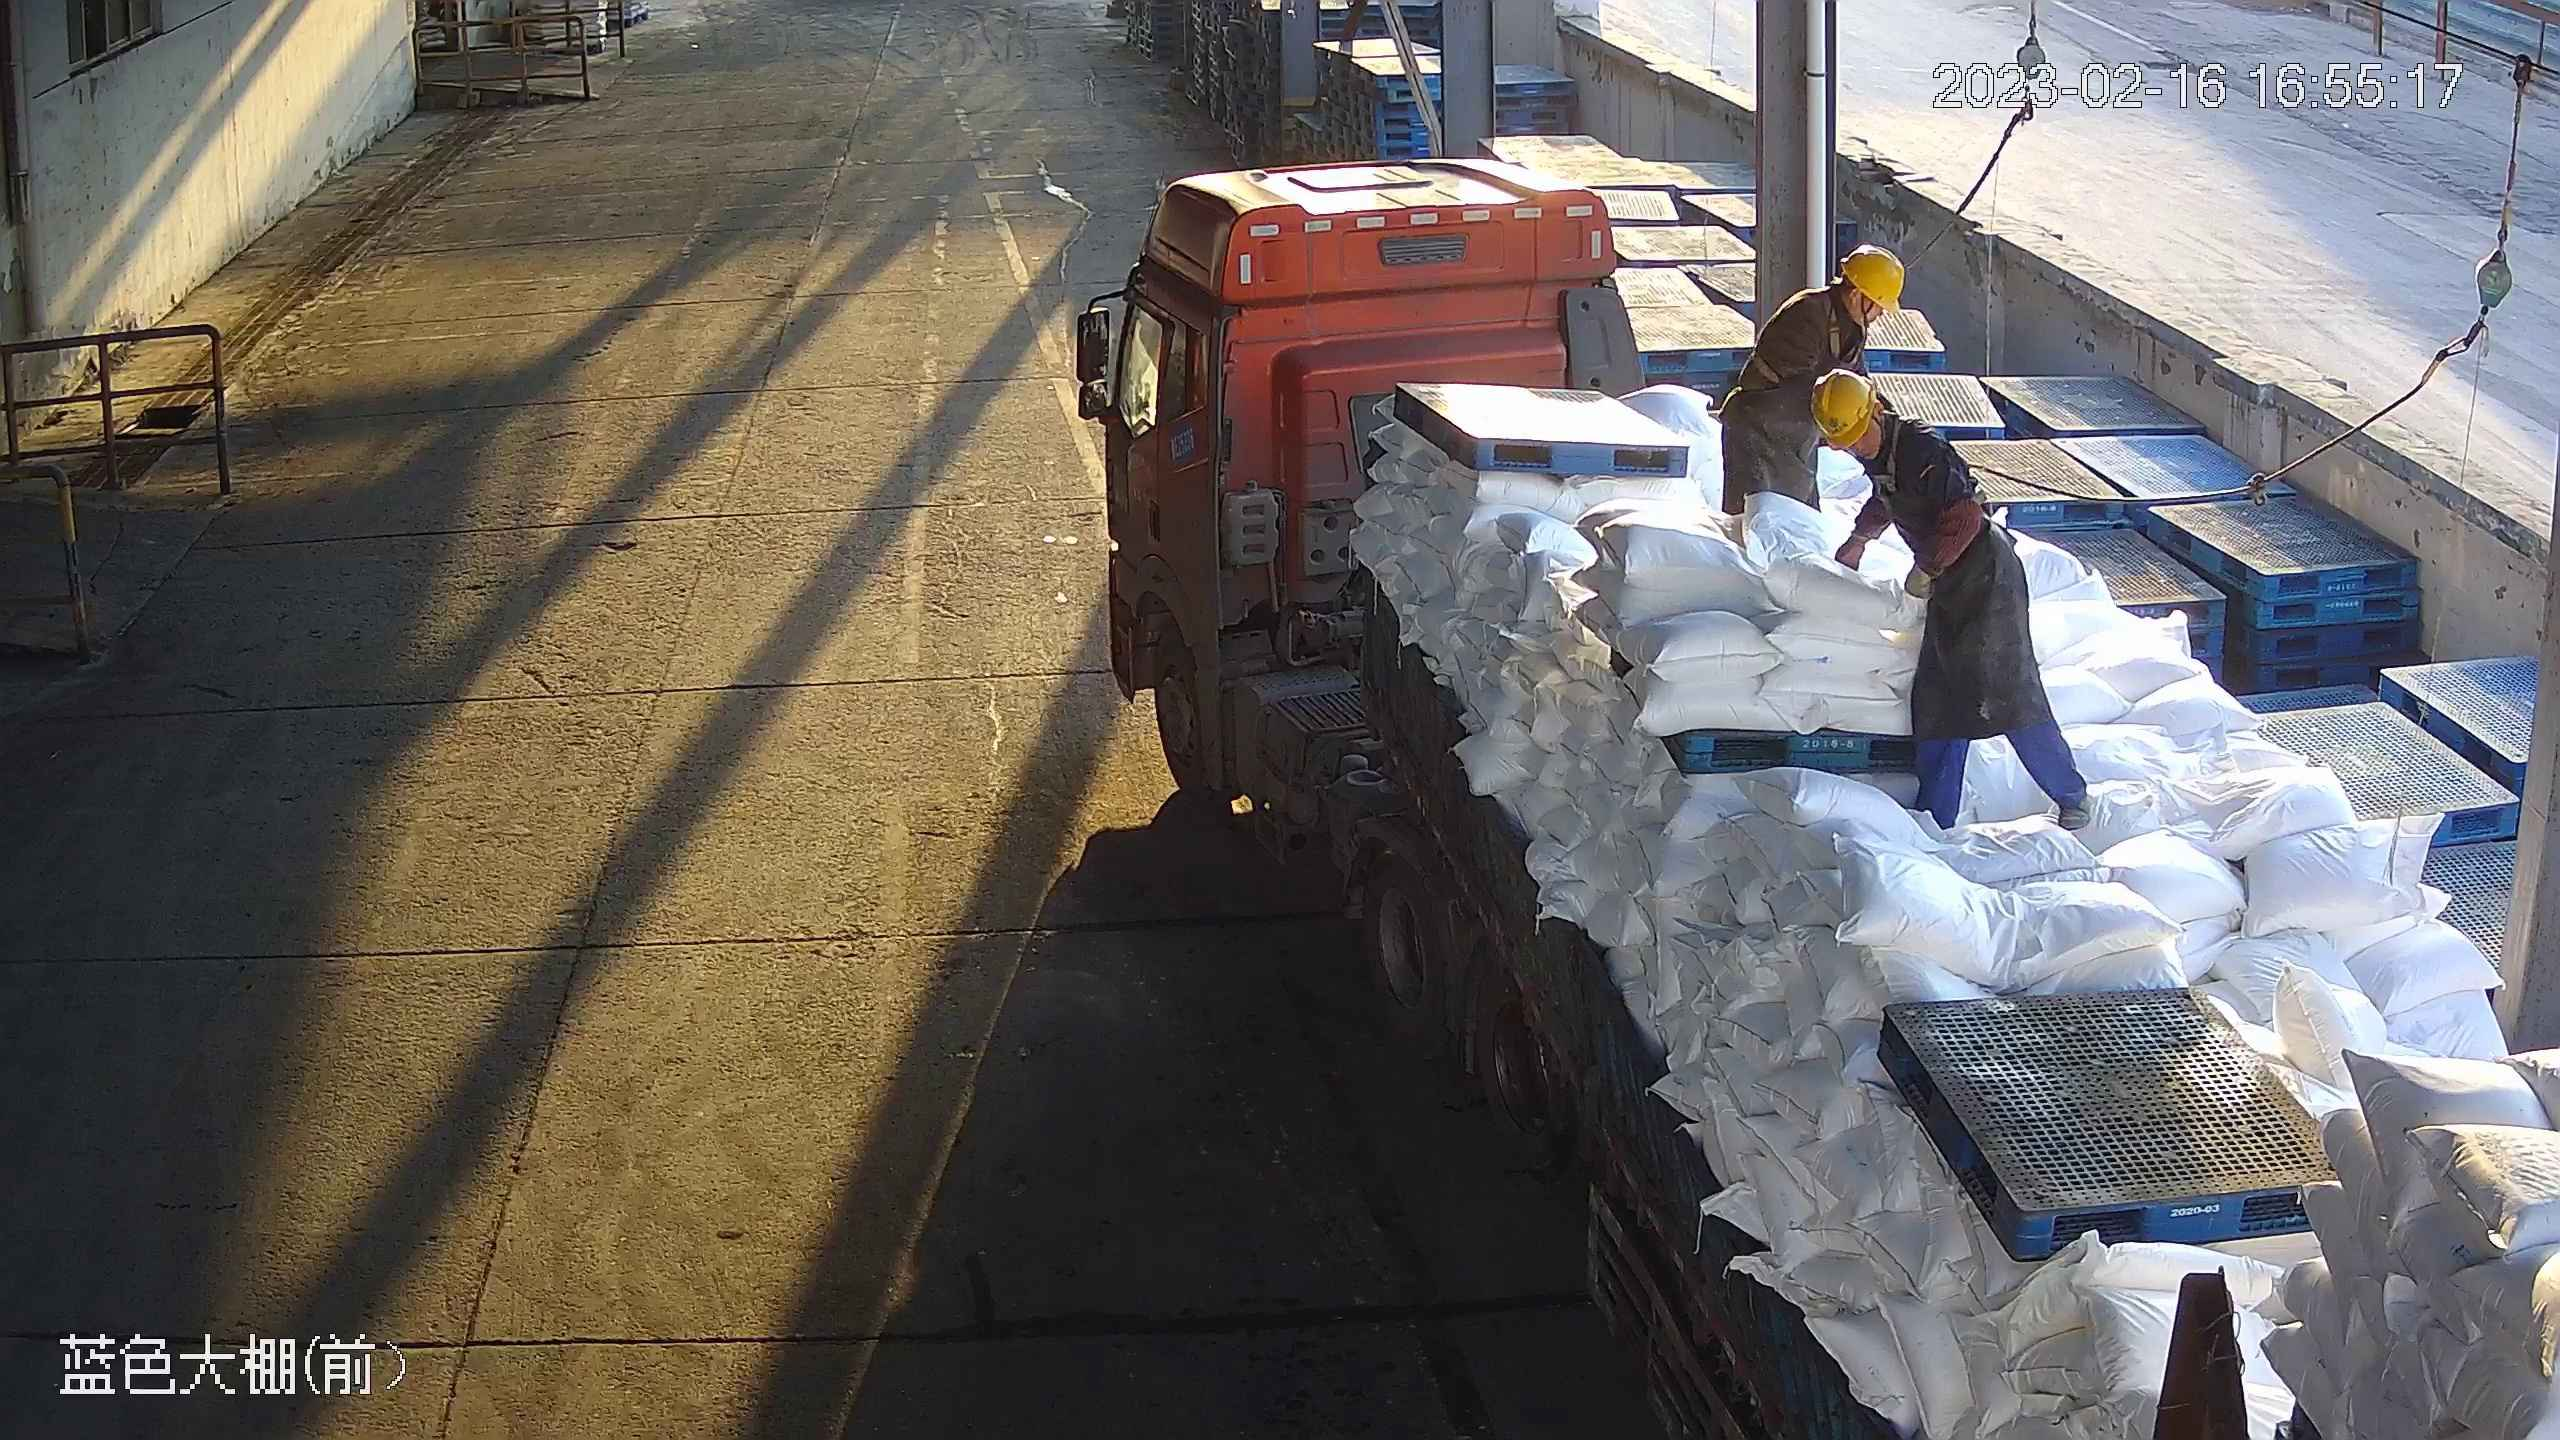belt: (1751, 285, 1862, 385), (1654, 449, 1722, 557)
head: (1811, 373, 1972, 492), (1757, 249, 1905, 357)
helmet: (1838, 231, 1905, 312), (1805, 370, 1881, 440)
people: (1809, 368, 2090, 832), (1722, 247, 1899, 523)
truck: (1077, 147, 2560, 1440)
